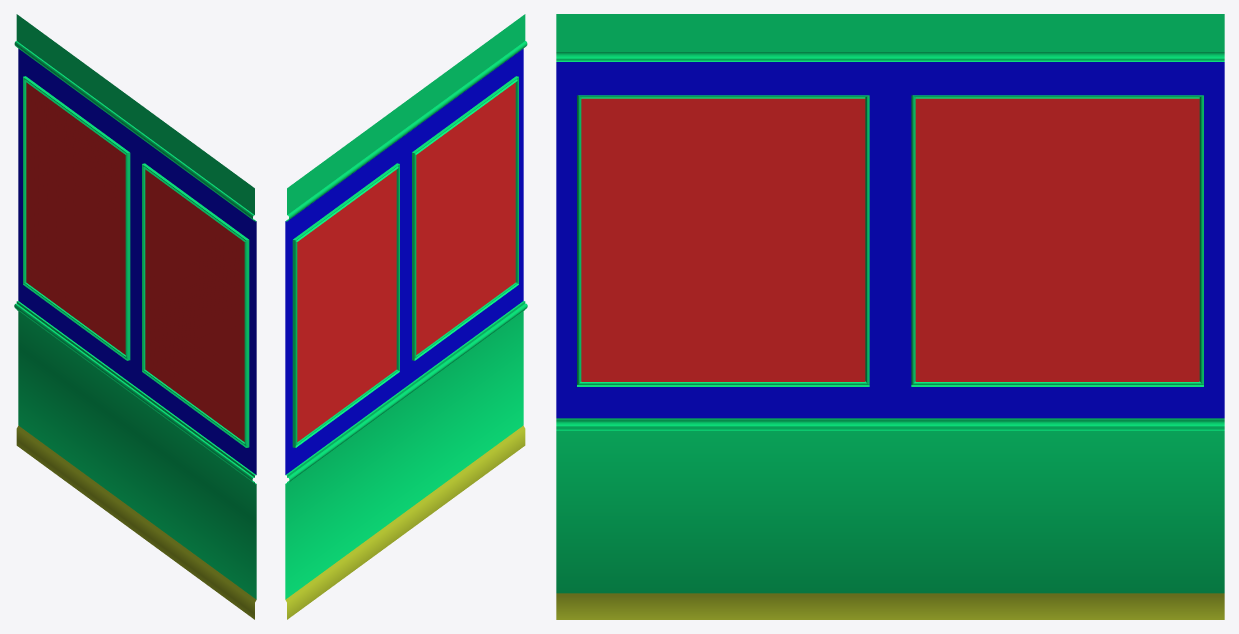
The model's file is Wall_01.fbx.
The picture shows the model from 3 angles, left to right: view 1: azimuth 30°, elevation 25°; view 2: azimuth 150°, elevation 25°; view 3: azimuth 270°, elevation 25°; orthographic projection. The views are drawn at different scales.
Visible parts, largest first — view 1: Wall_01; view 2: Wall_01; view 3: Wall_01.
Part boxes in pixels (left/top/right/bottom): Wall_01: left=14, top=14, right=256, bottom=619; Wall_01: left=285, top=14, right=527, bottom=619; Wall_01: left=556, top=14, right=1224, bottom=619.
Bounding box in the file's own units: 1.98 × 200 × 200.
